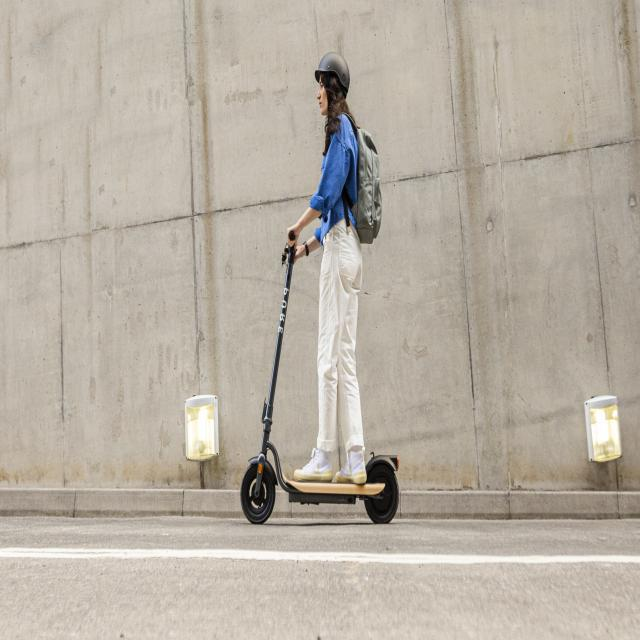Helmet: (305, 50, 357, 124)
